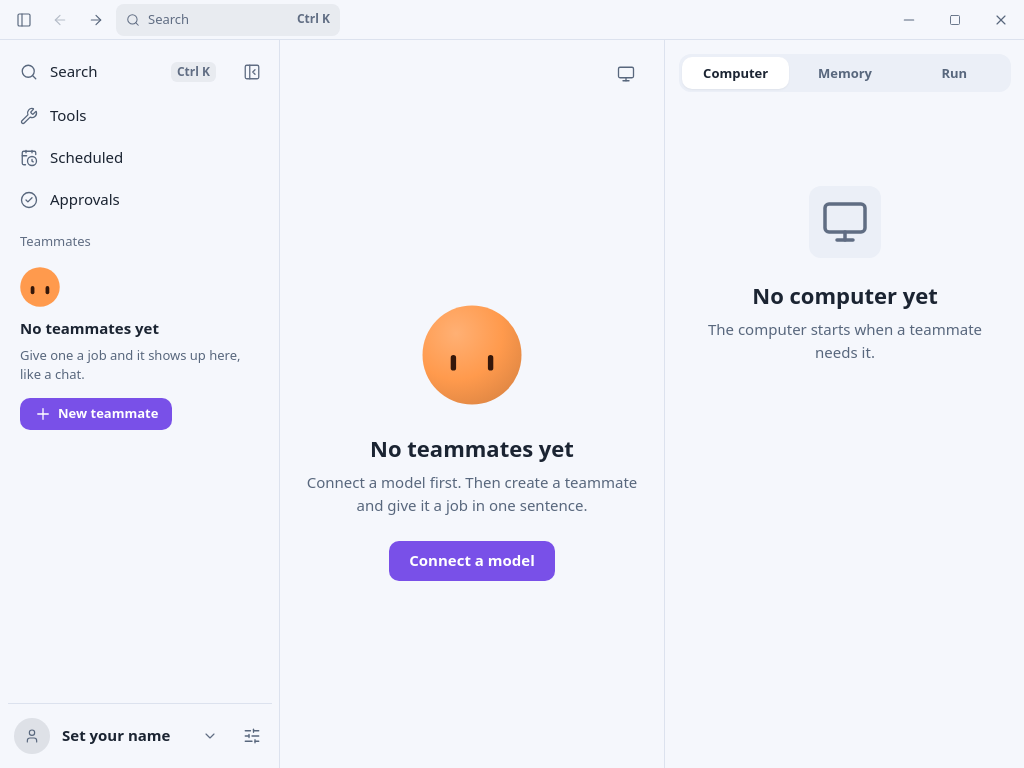
Test case: title bar in the app shell › toggles the sidebar and opens the palette from the bar
Expected: the element named "Sidebar" is shown, [0,40,280,767]
Click the button named "Toggle sidebar".
click(24, 20)  # box [8,4,40,36]
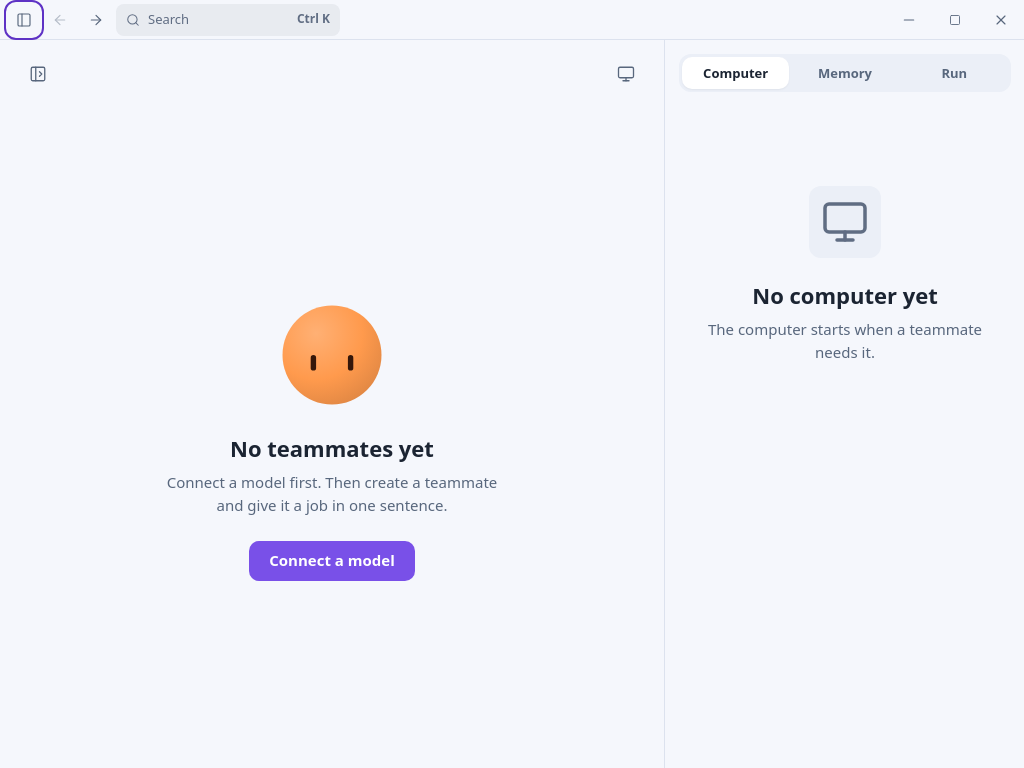
Result: the button "Sidebar" is gone
Click the button "Search Ctrl K".
click(228, 20)  # box [116,4,340,36]
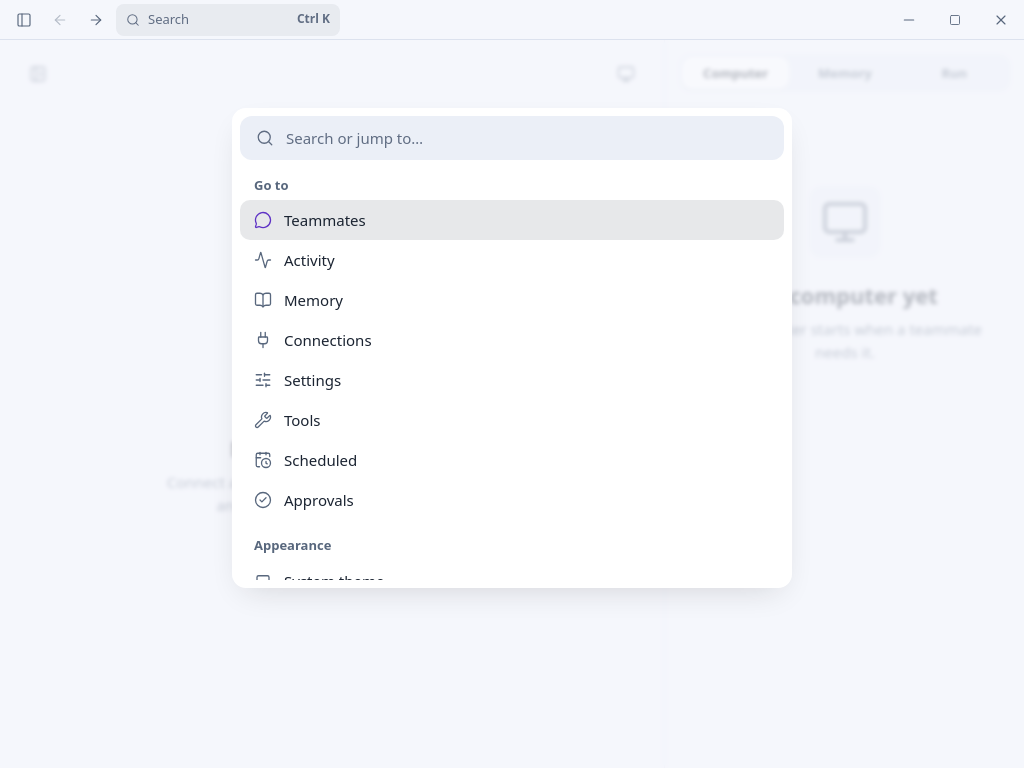
Result: the dialog is shown at [232,108,792,588]
